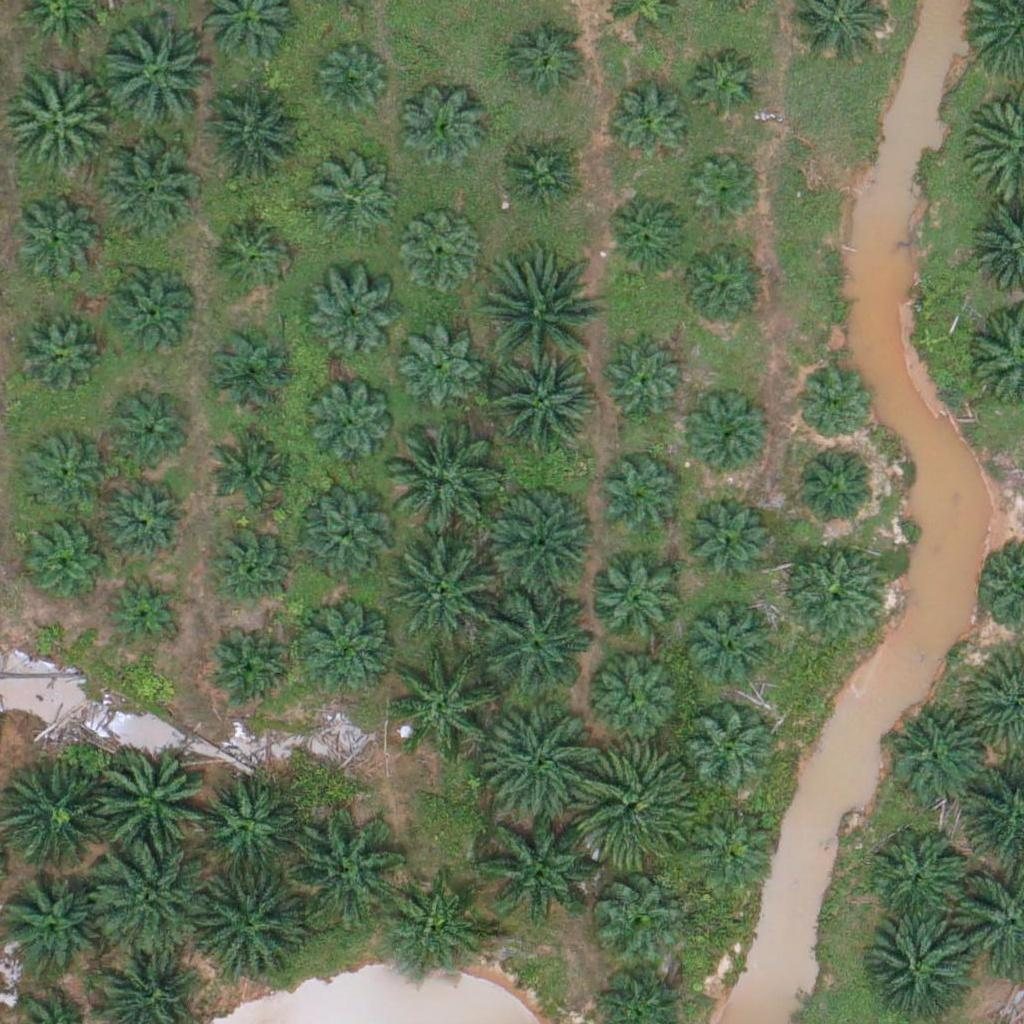Kelapa_Sawit: (189, 868, 302, 982), (478, 483, 591, 597), (577, 747, 690, 860), (485, 260, 598, 373), (482, 581, 595, 694), (190, 85, 303, 198), (99, 22, 212, 135), (489, 708, 601, 822), (478, 810, 590, 923), (289, 810, 401, 923), (97, 843, 209, 956), (483, 353, 595, 466), (390, 647, 502, 760), (390, 538, 502, 651), (386, 426, 498, 539), (96, 747, 208, 860), (867, 827, 967, 928), (786, 539, 886, 640), (678, 600, 778, 701), (295, 493, 395, 594), (96, 139, 196, 240), (196, 774, 296, 875), (886, 707, 986, 808), (385, 883, 485, 983), (588, 646, 688, 746), (592, 550, 692, 650), (294, 599, 394, 699), (605, 76, 693, 165), (592, 869, 680, 957), (503, 20, 591, 108), (491, 136, 579, 224), (675, 243, 763, 331), (689, 804, 777, 892), (598, 453, 686, 541), (307, 279, 395, 367), (307, 380, 395, 468), (9, 310, 97, 398), (107, 265, 195, 353), (206, 628, 294, 716), (208, 211, 296, 299), (397, 212, 485, 300), (604, 191, 691, 279), (597, 339, 684, 427), (686, 396, 773, 484), (793, 442, 880, 530), (687, 712, 774, 800), (682, 491, 769, 579), (24, 514, 111, 602), (20, 429, 107, 517), (11, 193, 98, 281), (105, 390, 192, 478), (106, 474, 193, 562), (204, 518, 291, 606), (212, 421, 299, 509), (204, 324, 291, 412), (399, 83, 486, 171), (396, 325, 483, 413), (310, 156, 397, 244), (314, 46, 389, 122), (687, 156, 762, 232), (107, 571, 182, 647), (796, 369, 871, 445), (690, 51, 765, 126)
